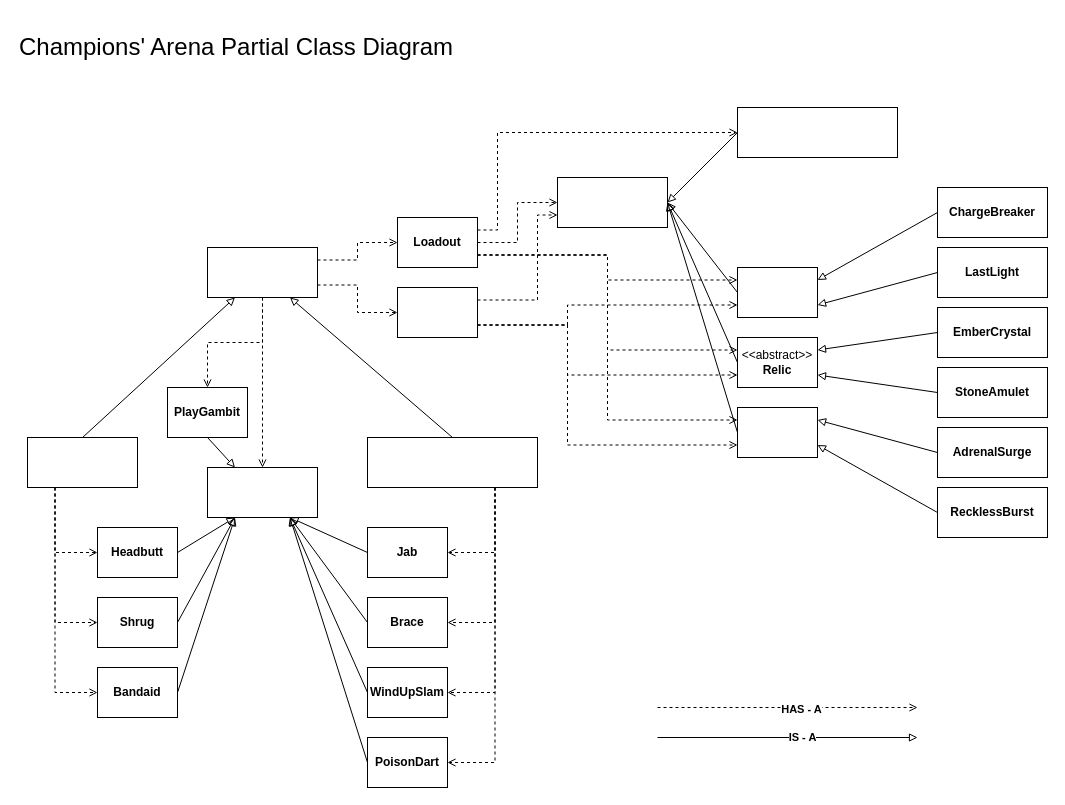
This 1065x805 diagram has some shape labels left out. Each missing label, with the box of its shape:
<<abstract>> Action: (206, 466, 318, 518)
<<abstract>> BattleModifier: (556, 176, 668, 228)
<<abstract>> Champion: (206, 246, 318, 298)
<<abstract>> Gambit: (736, 406, 818, 458)
<<abstract>> Tactic: (736, 266, 818, 318)
<<abstract>> TemporaryModifier: (736, 106, 898, 158)
AdvancedTraining Dummy: (366, 436, 538, 488)
Arsenal: (396, 286, 478, 338)
Training Dummy: (26, 436, 138, 488)
